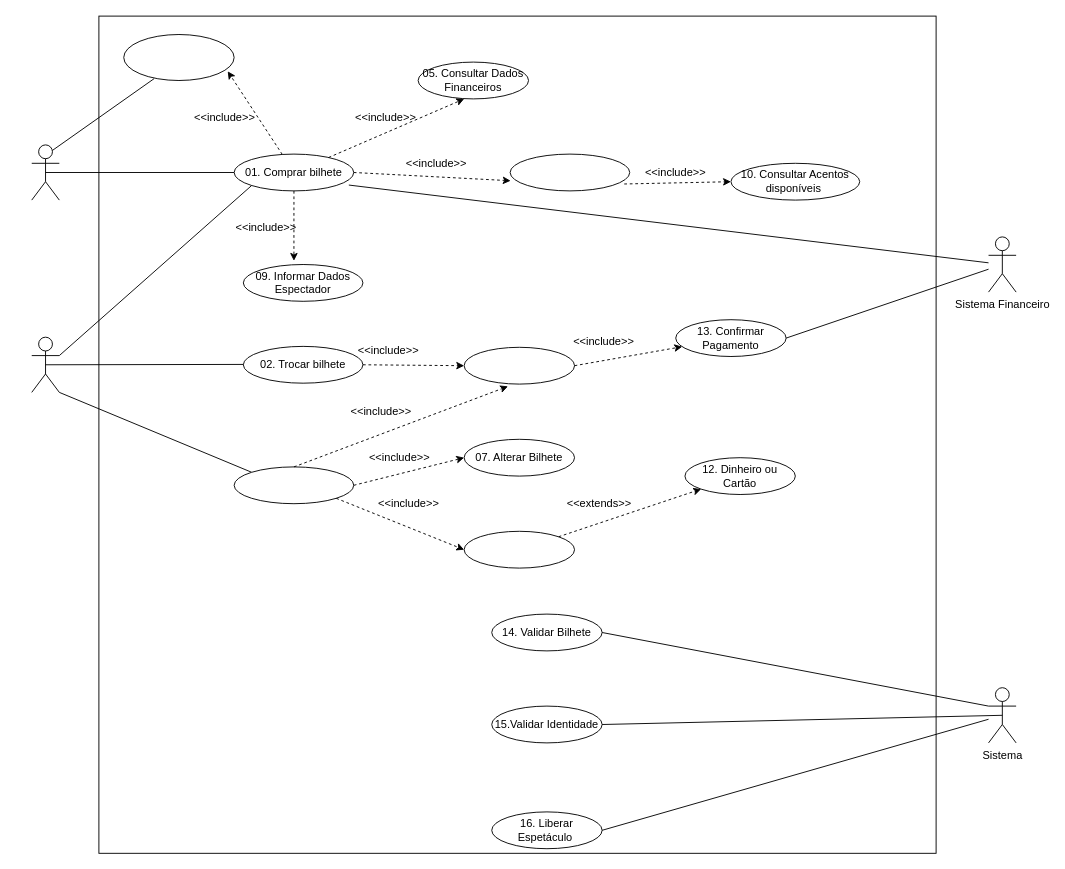
Image size: 1065x869. Some labels were removed from this diagram. The centre of each missing label's shape, as x and y in pixels:
03. Vender bilhete: pixel 293 485
04. Consultar Espetaculos: pixel 178 57
06. Realizar Pagamento: pixel 519 365
08. Selecionar Espetáculo: pixel 569 172
11. Formas de Pagamento: pixel 519 549
Cliente: pixel 45 172
Espectador: pixel 45 364
